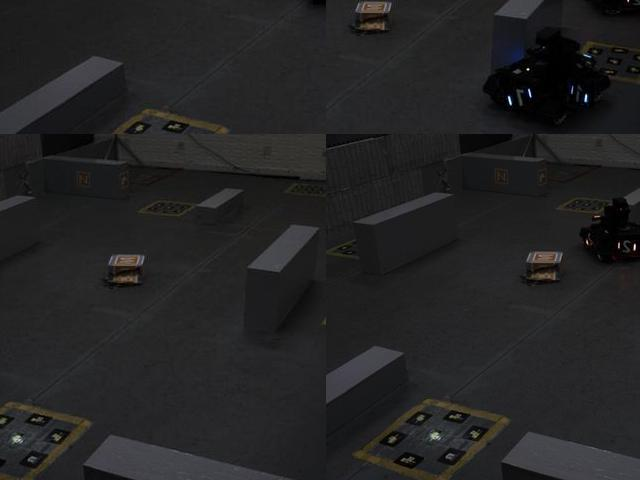armor: (567, 79, 595, 108), (505, 85, 534, 112), (614, 236, 639, 258), (585, 231, 597, 250), (623, 0, 639, 10)
